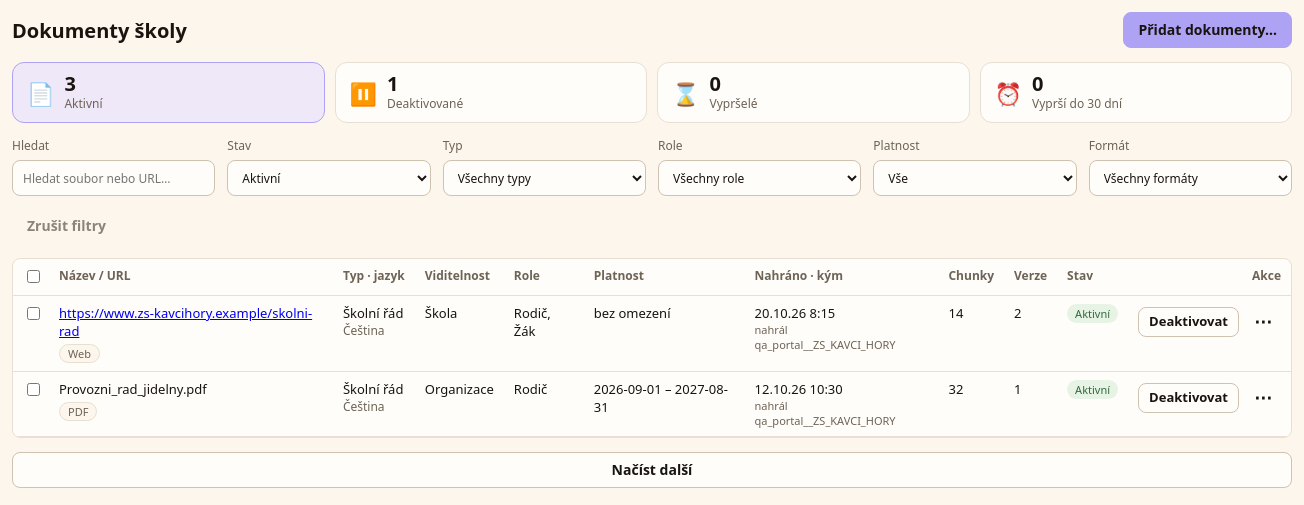
Test: DocumentsPage — actions and permissions › deactivates and re-activates a document, reloading the list each time
Expected: the text "Provozni_rad_jidelny.pdf" is shown, [59,380,207,398]
Click the button "Deaktivovat" in the row of "Provozni_rad_jidelny.pdf" at (1189, 398), box [1138,383,1239,413]
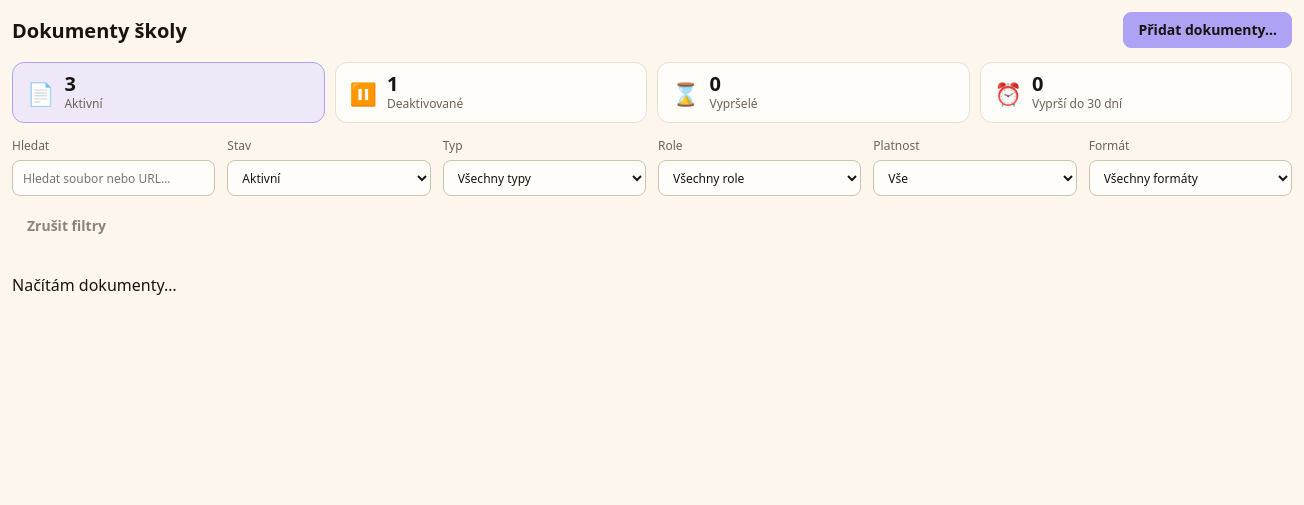
Expected: the text "Provozni_rad_jidelny.pdf" is gone
Select "Deaktivované" in the dropdown labelled "Stav" at (329, 178), box [227,160,431,196]
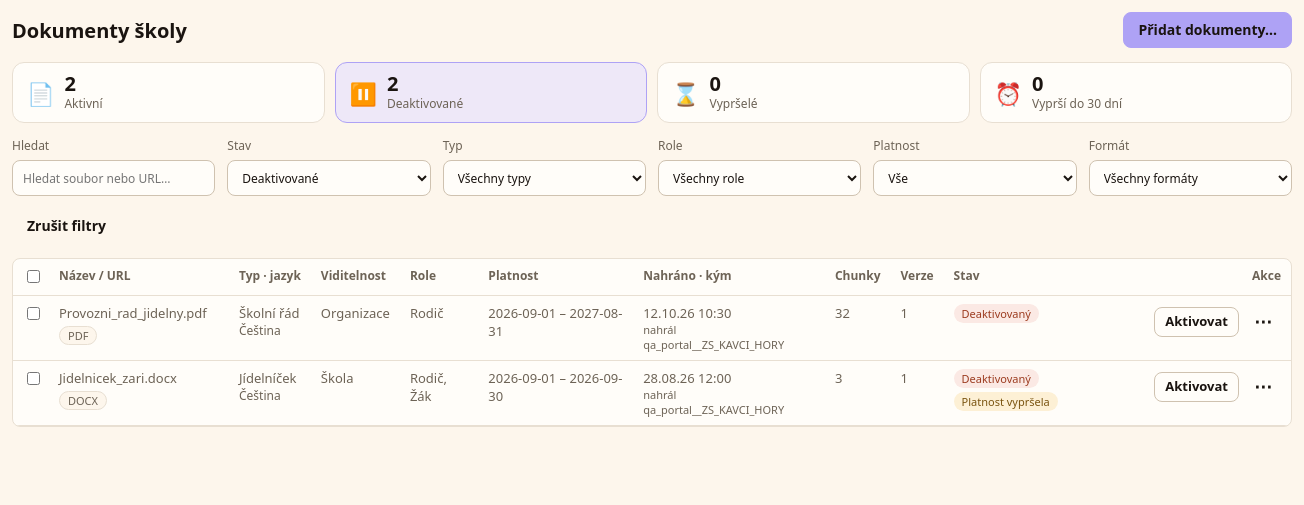
Expected: the text "Provozni_rad_jidelny.pdf" is shown, [59,304,219,322]
Click the button "Aktivovat" in the row of "Provozni_rad_jidelny.pdf" at (1197, 322), box [1154,307,1239,337]
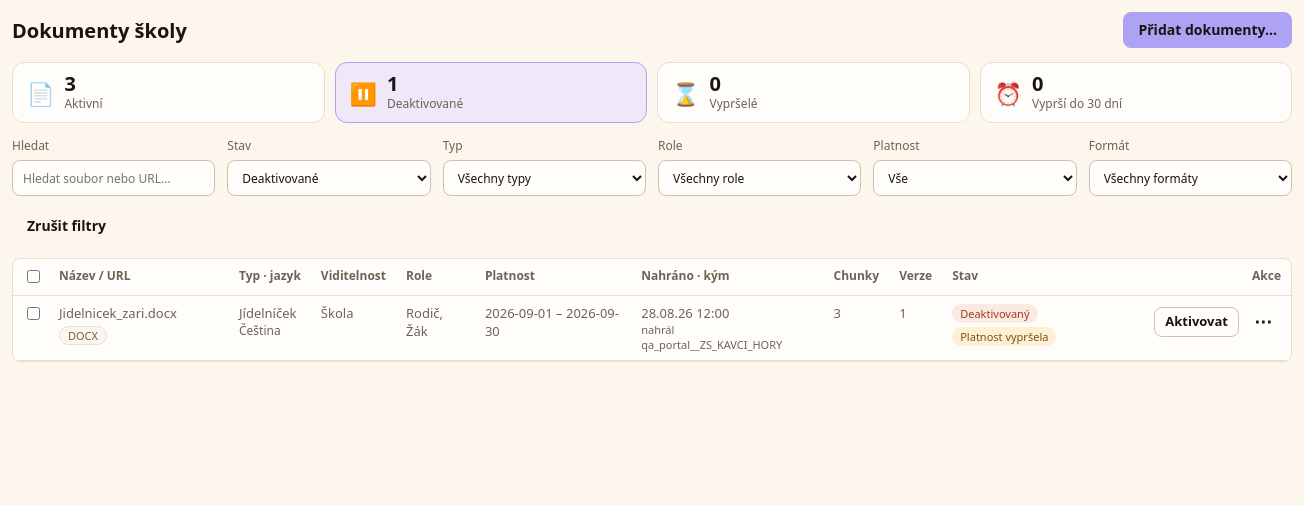
Expected: the text "Provozni_rad_jidelny.pdf" is gone
